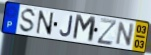J: (59, 15, 74, 39)
M: (71, 14, 98, 45)
N: (114, 21, 136, 48), (36, 10, 55, 37)
S: (18, 7, 37, 34)
Z: (96, 18, 118, 47)
